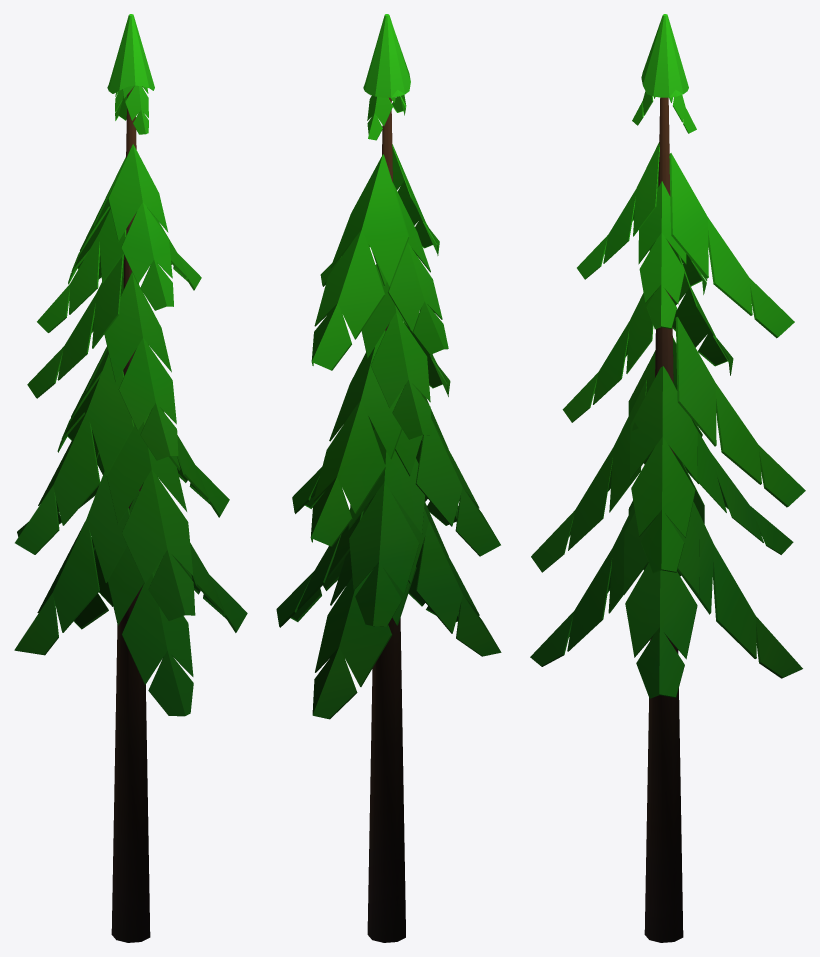
File: Tree9.glb
3 views of the same model, side by side, from view 1: azimuth 30°, elevation 25°; view 2: azimuth 150°, elevation 25°; view 3: azimuth 270°, elevation 25° (orthographic).
Visible parts, largest first — view 1: Tree.001; view 2: Tree.001; view 3: Tree.001.
Part boxes in pixels (box(x1,y1,x2,y2)): Tree.001: box(14, 14, 247, 942); Tree.001: box(276, 14, 501, 942); Tree.001: box(530, 14, 805, 942).
Bounding box in the file's own units: 4.21 × 16.12 × 4.38.
Materials: 2 (2 with a texture image).
